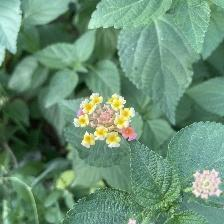common lanthana: (74, 84, 143, 153), (192, 166, 224, 202)
